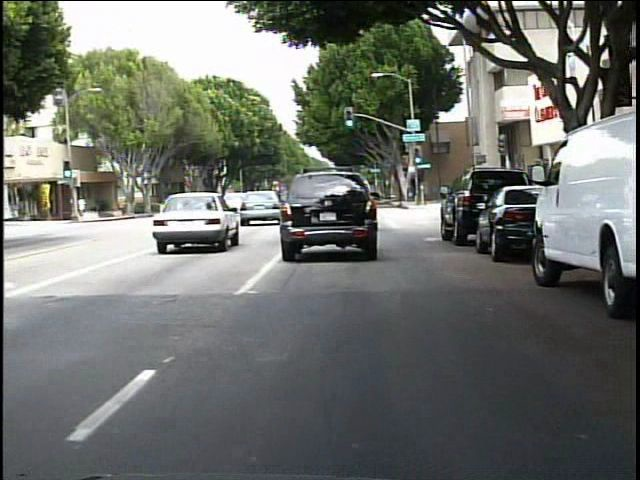person: (78, 193, 89, 220)
